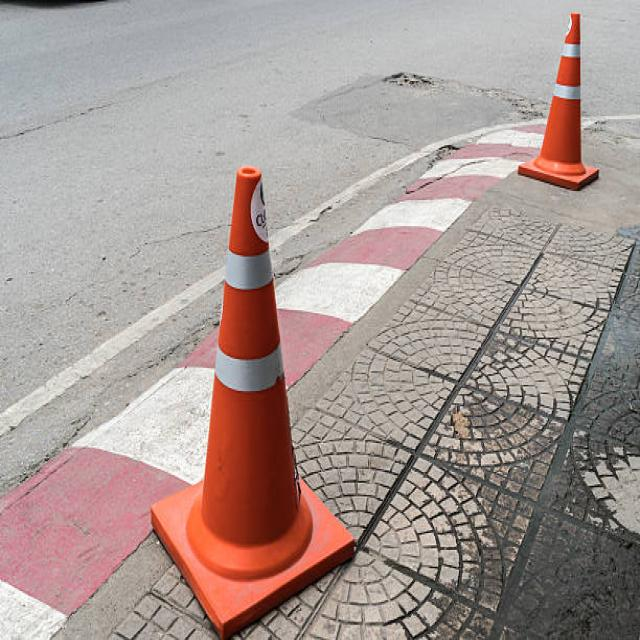Traffic Cone: (130, 123, 381, 640), (510, 0, 606, 208)
